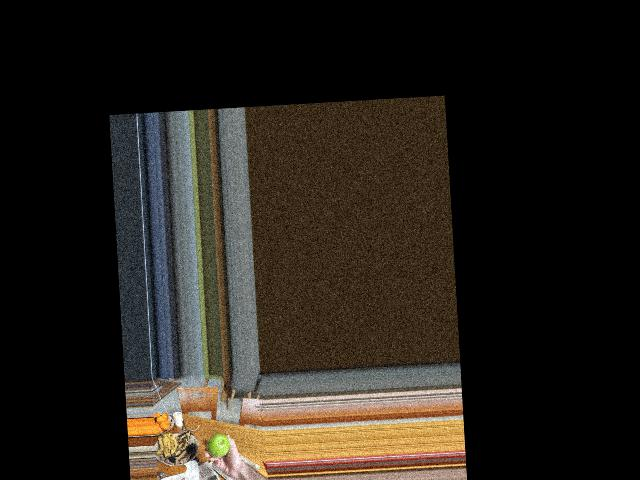apple: (206, 432, 231, 458)
